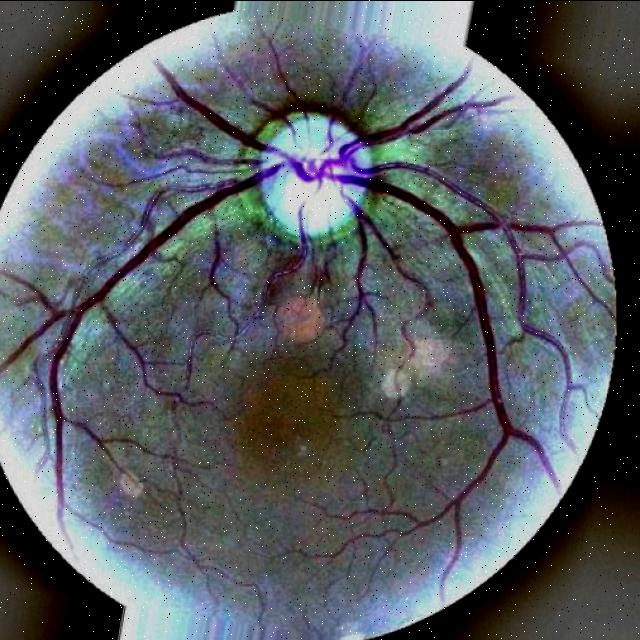Macula: (244, 381, 327, 466)
Nerves: (381, 183, 538, 448), (68, 175, 264, 339), (71, 171, 267, 333), (375, 159, 494, 203), (448, 464, 489, 572), (183, 99, 266, 149), (154, 148, 243, 166), (349, 128, 405, 145)
Optic Disk: (259, 114, 369, 242)
